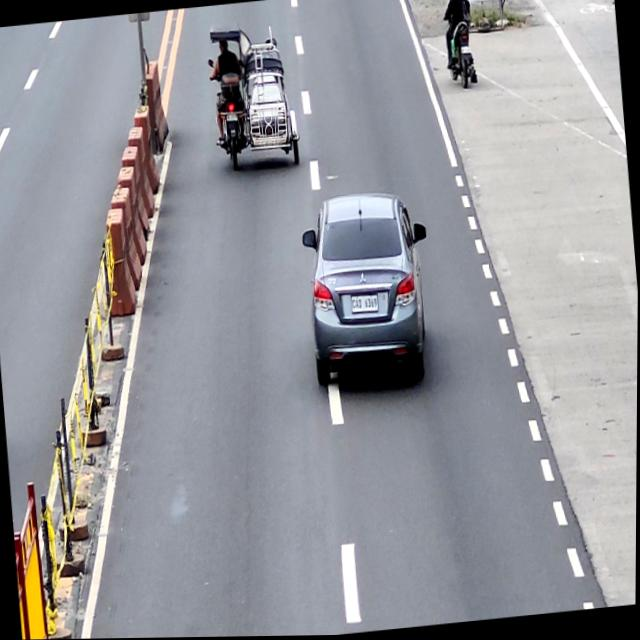Car: (298, 186, 439, 397)
License-Plate: (348, 293, 380, 317), (224, 111, 236, 123), (461, 47, 471, 57)
Motorcycle: (443, 0, 479, 88)
Tricycle: (205, 23, 302, 176)
